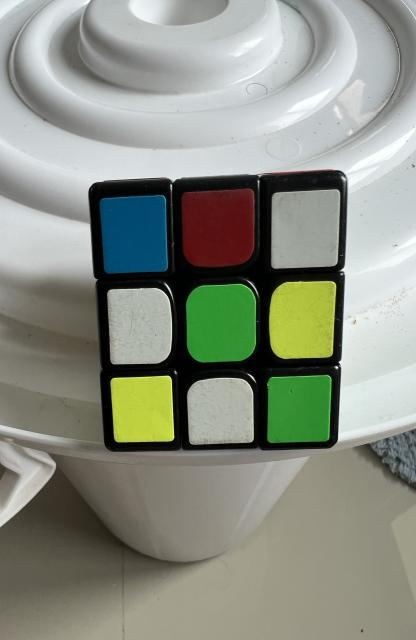Blue: (100, 195, 168, 274)
Green: (186, 284, 257, 362), (268, 375, 332, 442)
Red: (181, 189, 255, 268)
White: (271, 189, 340, 269), (107, 288, 172, 365), (187, 378, 254, 445)
Yellow: (269, 281, 336, 359), (110, 376, 174, 442)
